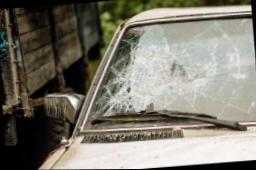Windshield: (78, 15, 256, 134)
